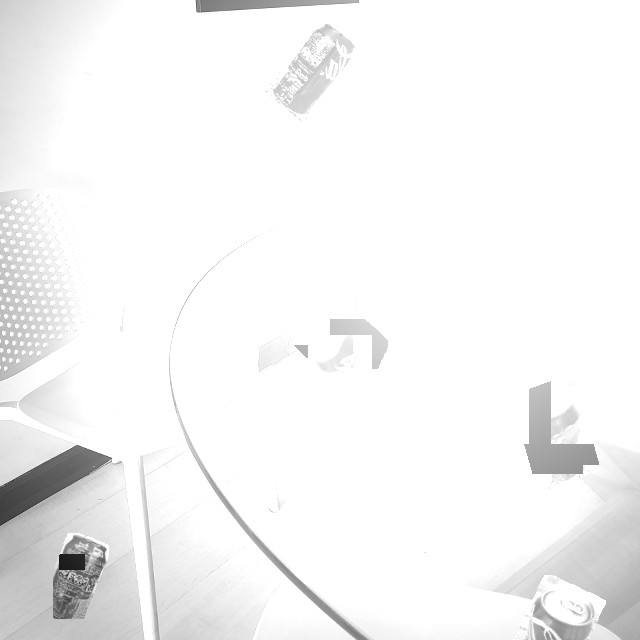coca cola: (285, 285, 388, 404), (264, 24, 363, 121), (503, 575, 606, 640)
schweppes: (511, 374, 600, 492)
sprite: (53, 533, 109, 619)
